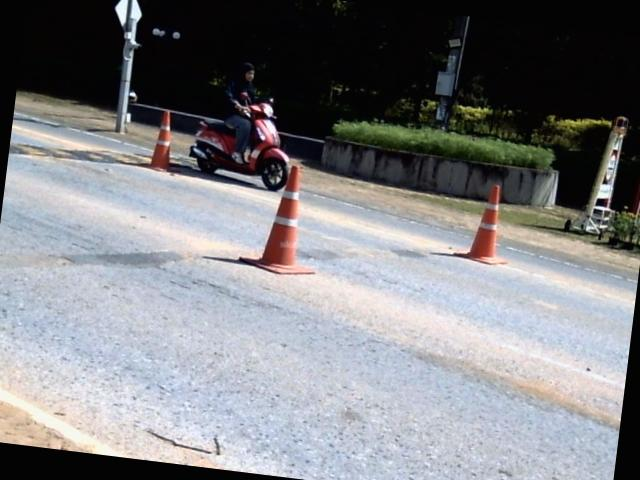motor: (188, 99, 288, 190)
no-helmet: (237, 62, 262, 85)
person: (224, 63, 253, 163)
